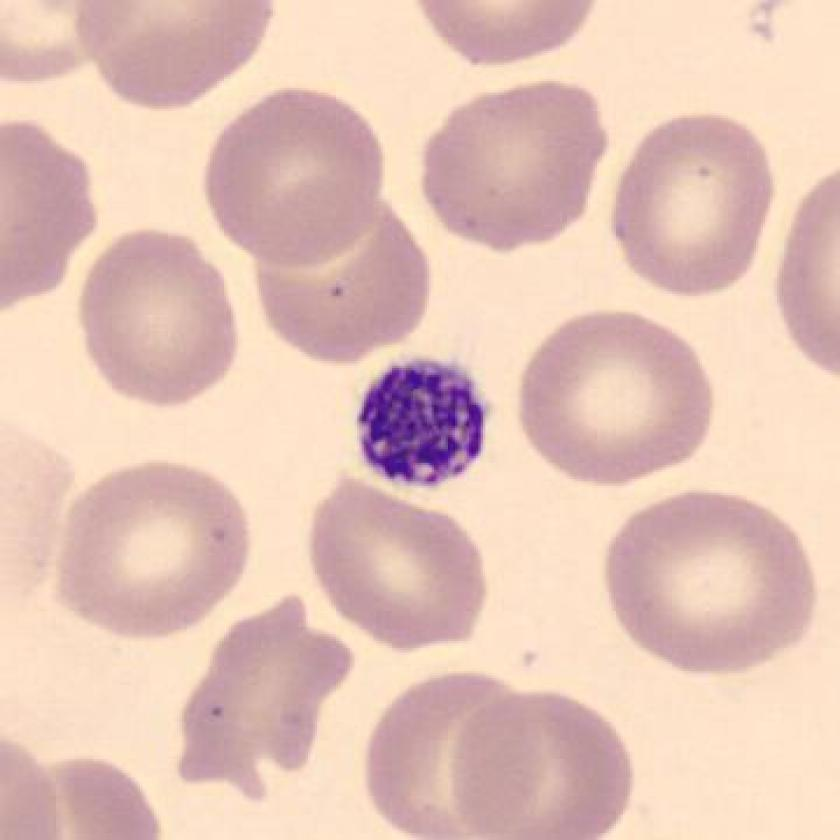platelets: (339, 346, 503, 501)
